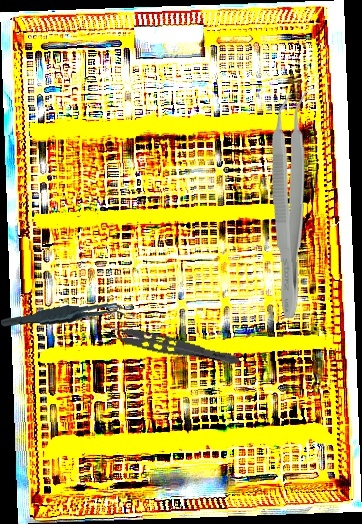Tissue Forceps: (270, 91, 314, 318), (100, 317, 243, 369), (0, 291, 128, 340)
